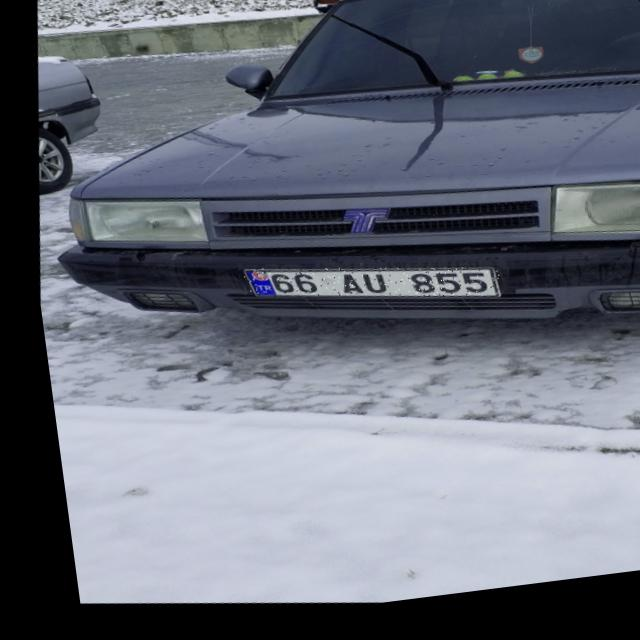license_plate: (232, 248, 492, 333)
